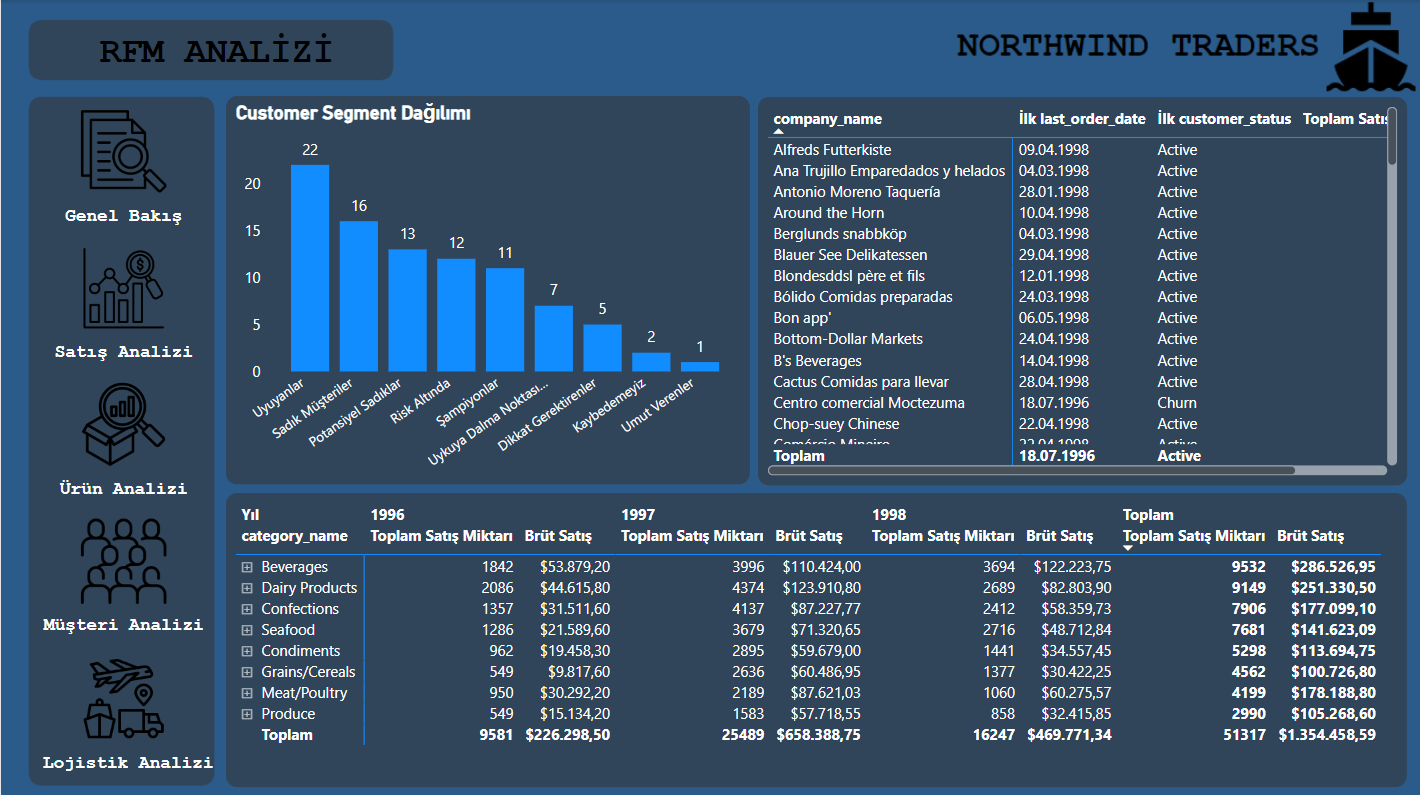

Layout of this report page (visuals, bound fields, positions):
{"tool":"powerbi","page":{"name":"RFM ANALİZİ","canvas":[1280,720],"ordinal":5},"visuals":[{"type":"textbox","box":[15,23,358,52],"z":0},{"type":"clusteredColumnChart","title":"Customer Segment Dağılımı","fields":{"Y":["CountNonNull(RFM Analizi.customer_segment)"],"Category":["RFM Analizi.customer_segment"]},"box":[203.1,86.9,471.7,350.2],"z":1000},{"type":"image","box":[27,586,167,87],"z":2000},{"type":"image","box":[27,462,167,87],"z":3000},{"type":"image","box":[27,216,167,87],"z":4000},{"type":"image","box":[27,339,167,87],"z":5000},{"type":"textbox","box":[27,549,167,36],"z":6000},{"type":"textbox","box":[27,426,167,36],"z":7000},{"type":"textbox","box":[27,303,167,36],"z":8000},{"type":"textbox","box":[27,180,167,36],"z":9000},{"type":"image","box":[27,93,167,87],"z":10000},{"type":"textbox","box":[27,673,175,36],"z":11000},{"type":"pivotTable","fields":{"Values":["Hesaplamalar(Dax).Toplam Satış Miktarı","Hesaplamalar(Dax).Brüt Satış"],"Rows":["categories.category_name","products.product_name"],"Columns":["orders.order_date.Varyasyon.Tarih Hiyerarşisi.Yıl"]},"box":[203.1,444.2,1064,265.1],"z":12000},{"type":"pivotTable","fields":{"Rows":["Churn Analizi.company_name"],"Values":["Min(Churn Analizi.last_order_date)","Min(Churn Analizi.customer_status)","Hesaplamalar(Dax).Toplam Satış Miktarı"]},"box":[682.3,87.3,585.2,350.1],"z":13000}]}

Visuals, with their boxes in screenshot pixels (x1, y1, x2, y2), scaled from the page's 1280x720 canvas onto the 1420x795 screenshot:
textbox: (17,25,414,83)
"Customer Segment Dağılımı" clusteredColumnChart: (225,96,749,483)
image: (30,647,215,743)
image: (30,510,215,606)
image: (30,239,215,335)
image: (30,374,215,470)
textbox: (30,606,215,646)
textbox: (30,470,215,510)
textbox: (30,335,215,374)
textbox: (30,199,215,239)
image: (30,103,215,199)
textbox: (30,743,224,783)
pivotTable - Hesaplamalar(Dax).Toplam Satış Miktarı x Hesaplamalar(Dax).Brüt Satış: (225,490,1406,783)
pivotTable - Churn Analizi.company_name x Min(Churn Analizi.last_order_date): (757,96,1406,483)
